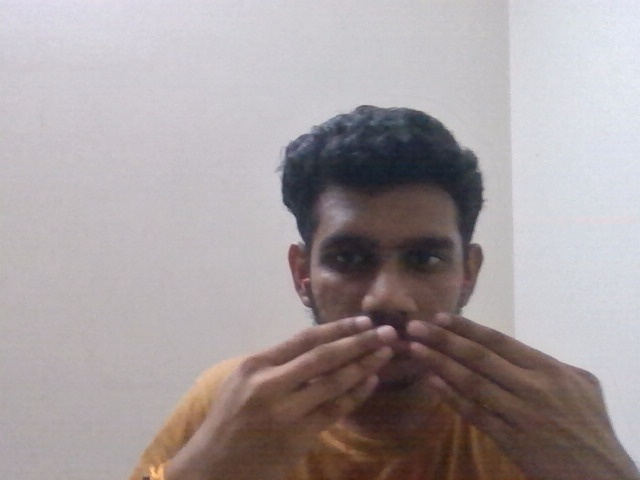thanks: (188, 306, 615, 461)
